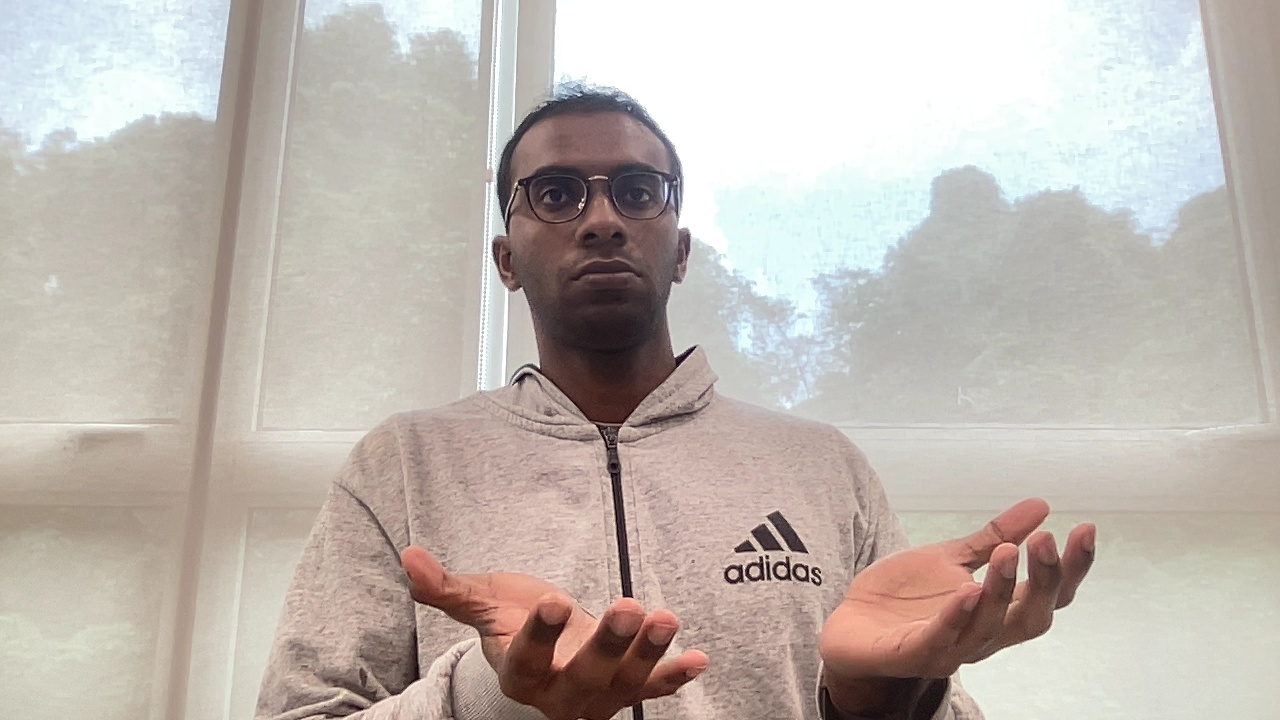give: (395, 492, 1104, 714)
